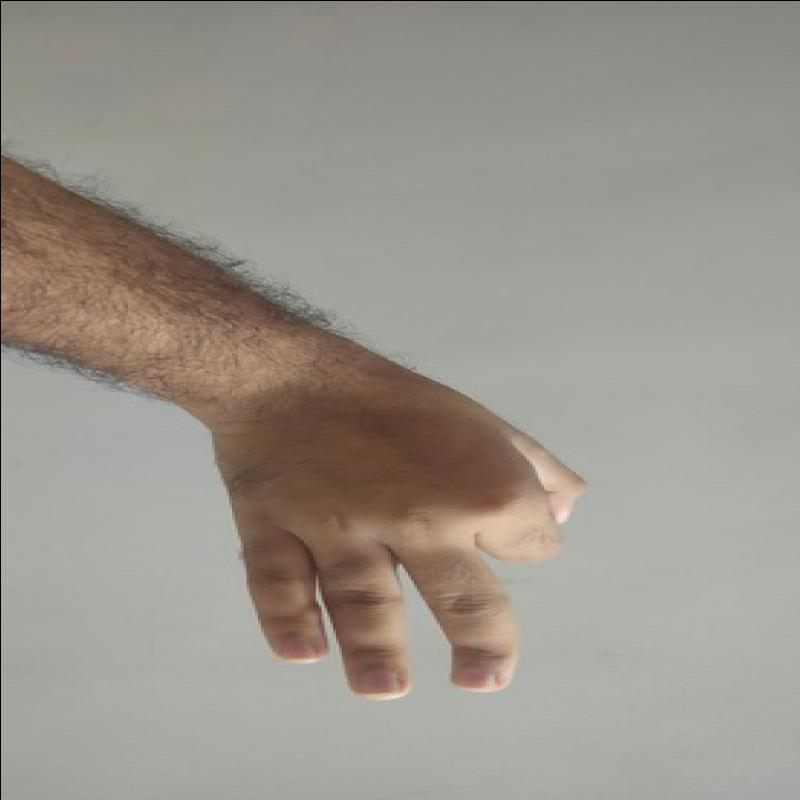Mudraakhyam: (188, 361, 596, 714)
